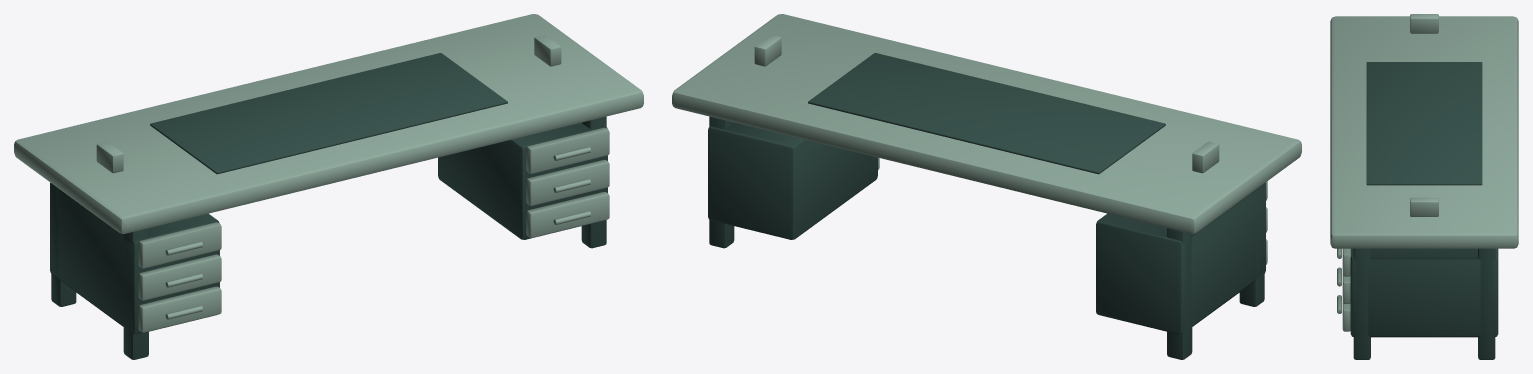
File: kf-workbench.glb
3 views of the same model, side by side, from view 1: azimuth 30°, elevation 25°; view 2: azimuth 150°, elevation 25°; view 3: azimuth 270°, elevation 25° (orthographic). The views are drawn at different scales.
Parts seen in each view (by area): view 1: Fixture Steel fittings, Fixture Painted frame; view 2: Fixture Painted frame, Fixture Steel fittings; view 3: Fixture Steel fittings, Fixture Painted frame.
Part boxes in pixels (x1,y1,x2,y2): Fixture Steel fittings: [14, 14, 643, 332]; Fixture Painted frame: [50, 53, 607, 359]; Fixture Painted frame: [708, 53, 1265, 359]; Fixture Steel fittings: [672, 14, 1301, 264]; Fixture Steel fittings: [1330, 14, 1518, 331]; Fixture Painted frame: [1350, 62, 1498, 359].
Size of the model in its own units: 3.6 by 1.17 by 1.3.
